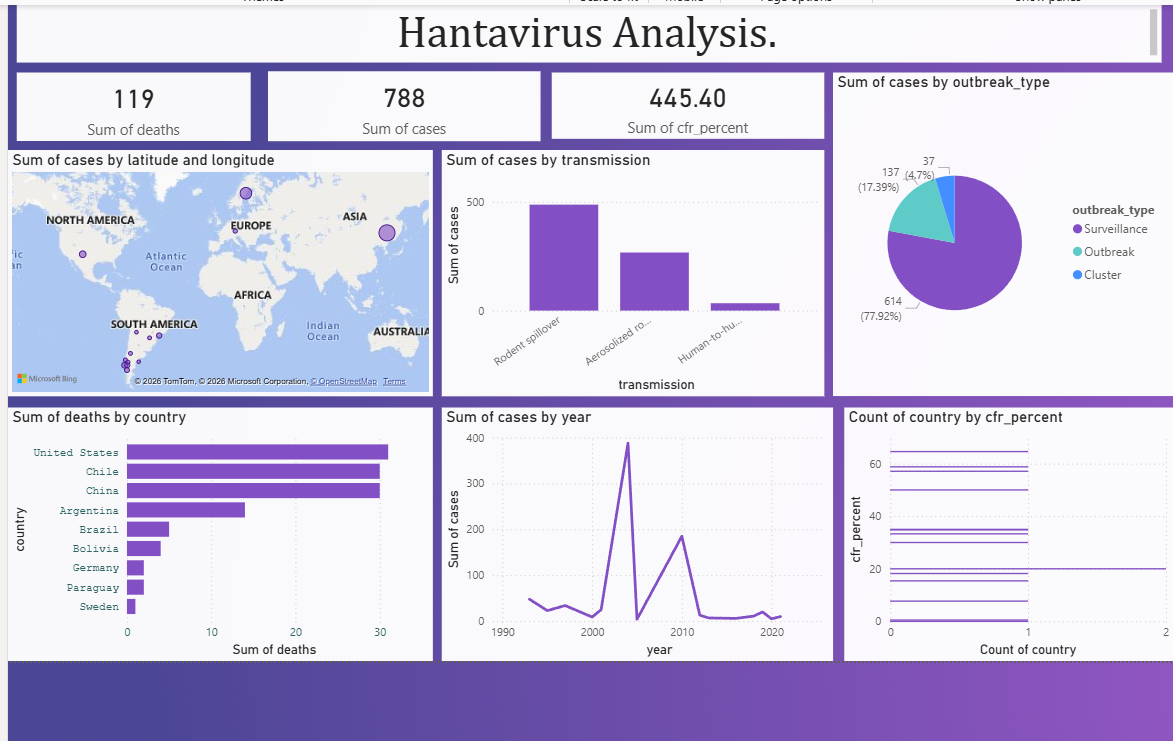

This screenshot's page, from the dashboard's own definition file:
{"tool":"powerbi","page":{"name":"Page 8","canvas":[1280,720],"ordinal":7},"visuals":[{"type":"textbox","box":[9.6,0,1257,63.1],"z":0},{"type":"barChart","fields":{"Category":["Hantavirus_Andes_Global_Registry.country"],"Y":["Sum(Hantavirus_Andes_Global_Registry.deaths)"]},"box":[0,441.9,466.6,278.6],"z":1},{"type":"lineChart","fields":{"Category":["Hantavirus_Andes_Global_Registry.year"],"Y":["Sum(Hantavirus_Andes_Global_Registry.cases)"]},"box":[476.2,441.9,429.5,278.6],"z":2},{"type":"barChart","fields":{"Category":["Hantavirus_Andes_Global_Registry.cfr_percent"],"Y":["CountNonNull(Hantavirus_Andes_Global_Registry.country)"]},"box":[918,441.9,362.3,278.6],"z":3},{"type":"pieChart","fields":{"Category":["Hantavirus_Andes_Global_Registry.outbreak_type"],"Y":["Sum(Hantavirus_Andes_Global_Registry.cases)"]},"box":[905.7,74.1,374.6,355.4],"z":4},{"type":"clusteredColumnChart","fields":{"Category":["Hantavirus_Andes_Global_Registry.transmission"],"Y":["Sum(Hantavirus_Andes_Global_Registry.cases)"]},"box":[476.2,159.2,419.9,270.3],"z":5},{"type":"map","fields":{"Y":["Hantavirus_Andes_Global_Registry.latitude"],"X":["Hantavirus_Andes_Global_Registry.longitude"],"Size":["Sum(Hantavirus_Andes_Global_Registry.cases)"]},"box":[0,159.2,466.6,270.3],"z":6},{"type":"card","fields":{"Values":["Sum(Hantavirus_Andes_Global_Registry.deaths)"]},"box":[9.6,74.1,256.6,75.5],"z":7},{"type":"card","fields":{"Values":["Sum(Hantavirus_Andes_Global_Registry.cases)"]},"box":[285.4,72.7,299.1,76.8],"z":8},{"type":"card","fields":{"Values":["Sum(Hantavirus_Andes_Global_Registry.cfr_percent)"]},"box":[596.9,74.1,299.1,72.7],"z":9}]}

Visuals, with their boxes in screenshot pixels (x1, y1, x2, y2):
textbox: box=[18, 6, 1154, 63]
barChart - Hantavirus_Andes_Global_Registry.country x Sum(Hantavirus_Andes_Global_Registry.deaths): box=[9, 405, 431, 657]
lineChart - Hantavirus_Andes_Global_Registry.year x Sum(Hantavirus_Andes_Global_Registry.cases): box=[440, 405, 828, 657]
barChart - Hantavirus_Andes_Global_Registry.cfr_percent x CountNonNull(Hantavirus_Andes_Global_Registry.country): box=[839, 405, 1166, 657]
pieChart - Hantavirus_Andes_Global_Registry.outbreak_type x Sum(Hantavirus_Andes_Global_Registry.cases): box=[828, 73, 1166, 394]
clusteredColumnChart - Hantavirus_Andes_Global_Registry.transmission x Sum(Hantavirus_Andes_Global_Registry.cases): box=[440, 150, 819, 394]
map - Hantavirus_Andes_Global_Registry.latitude x Hantavirus_Andes_Global_Registry.longitude: box=[9, 150, 431, 394]
card - Sum(Hantavirus_Andes_Global_Registry.deaths): box=[18, 73, 250, 141]
card - Sum(Hantavirus_Andes_Global_Registry.cases): box=[267, 72, 537, 141]
card - Sum(Hantavirus_Andes_Global_Registry.cfr_percent): box=[549, 73, 819, 139]
